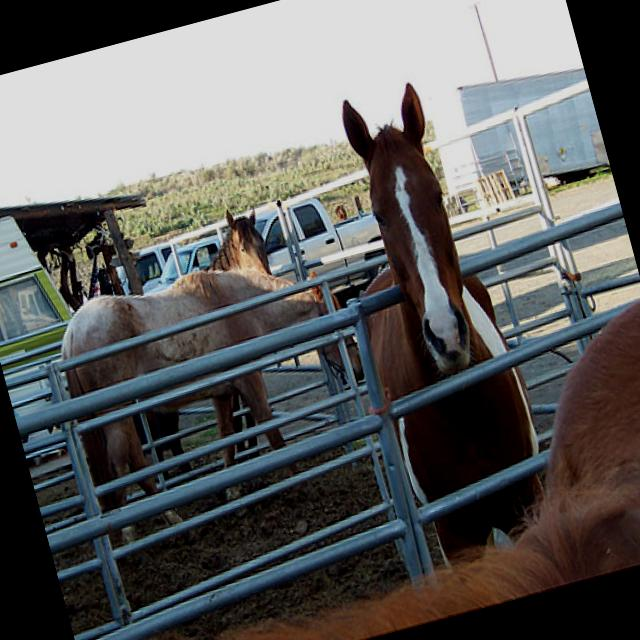Vehicle: (254, 178, 393, 307), (136, 230, 236, 295), (130, 239, 190, 296)
